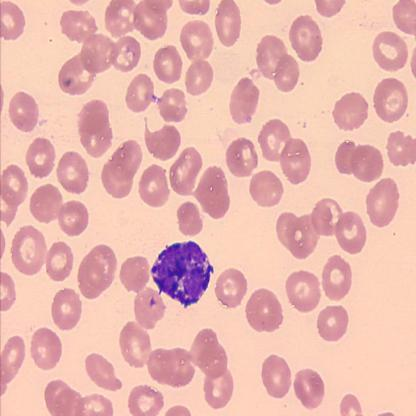Basophil: (149, 238, 216, 310)
